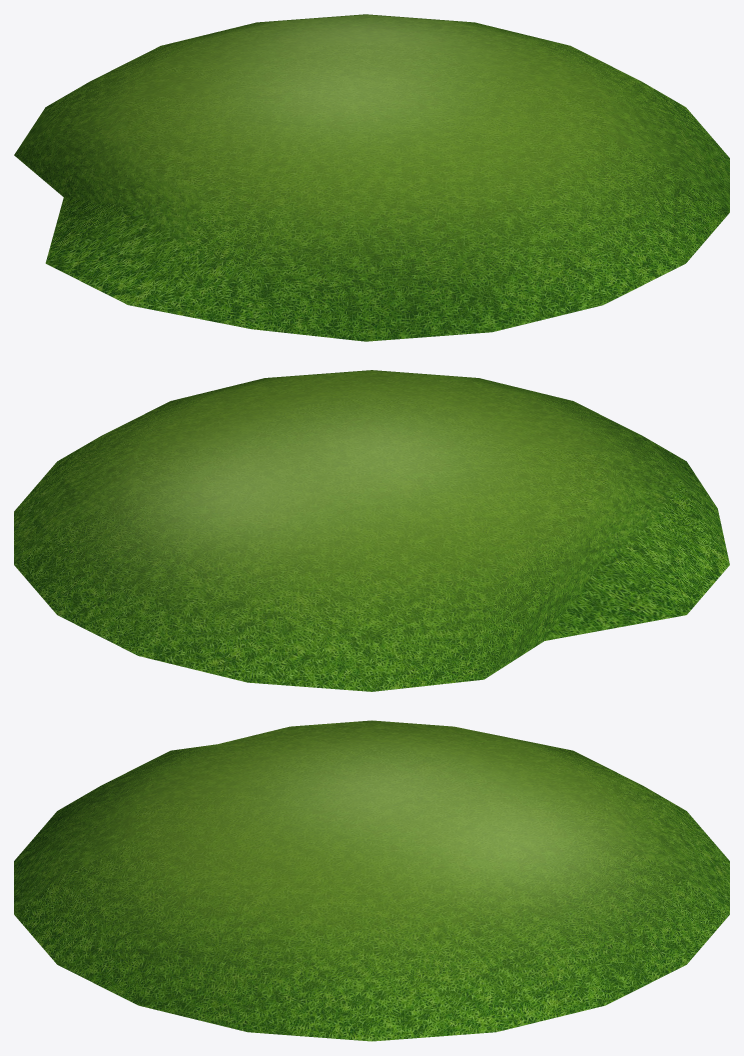
Rendered from Small mountain01.fbx.
3 views of the same model, one above another, from view 1: azimuth 30°, elevation 25°; view 2: azimuth 150°, elevation 25°; view 3: azimuth 270°, elevation 25° (orthographic).
Visible parts, largest first — view 1: pSphere2; view 2: pSphere2; view 3: pSphere2.
Part boxes in pixels (x1,y1,x2,y2): pSphere2: (14,14,729,341); pSphere2: (14,370,729,691); pSphere2: (14,720,729,1041).
Size of the model in its own units: 99.34 by 14.08 by 97.83.
